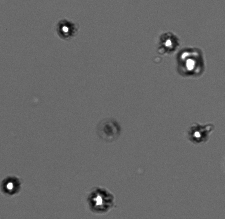Dead Cell: (97, 119, 121, 140)
Living Cell: (178, 48, 204, 76), (87, 186, 114, 211), (158, 32, 179, 52), (188, 123, 208, 143), (1, 175, 20, 195), (55, 19, 75, 38)
